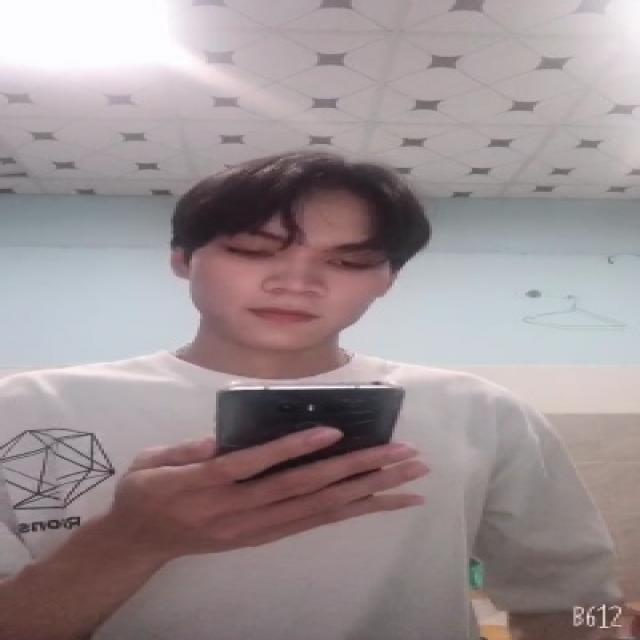Phone: (214, 378, 409, 490)
